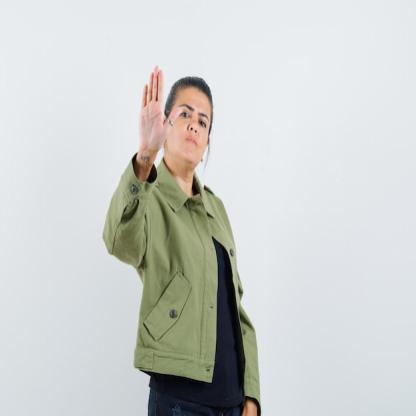stop: (136, 62, 184, 166)
